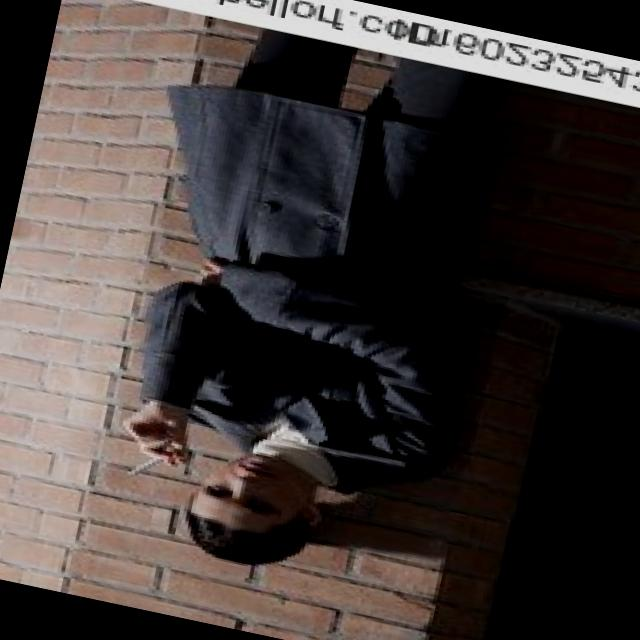cigarette: (121, 452, 164, 478)
